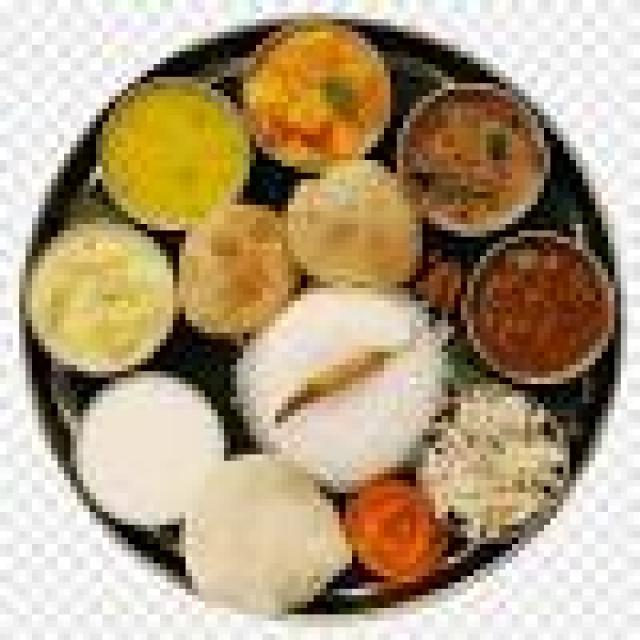dal: (242, 5, 398, 182), (94, 69, 244, 233), (428, 382, 574, 541)
rice: (3, 7, 100, 219)
sambar-rasam: (63, 362, 226, 527)
sweet: (399, 81, 556, 233), (333, 479, 454, 590)
veg-fry: (437, 212, 623, 395), (392, 73, 562, 240), (235, 10, 399, 178)
